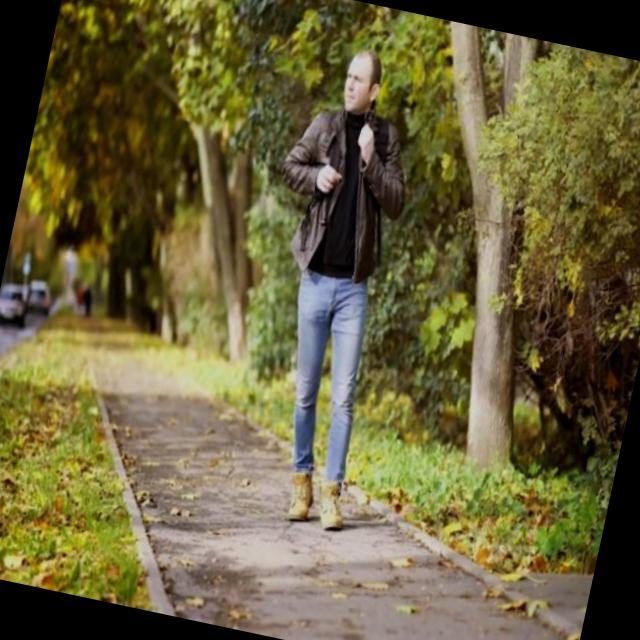person: (184, 2, 499, 558)
